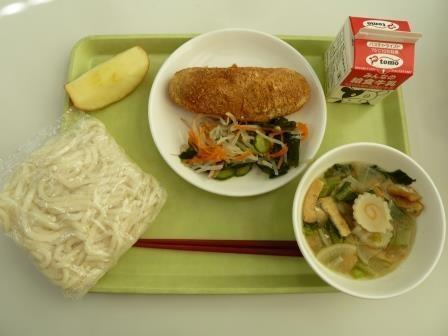Apple: (65, 34, 150, 115)
Bread: (167, 51, 312, 120)
Milk: (327, 13, 417, 109)
Salad: (179, 117, 309, 188)
Soups: (297, 150, 447, 299)
Udon: (3, 120, 181, 289)
